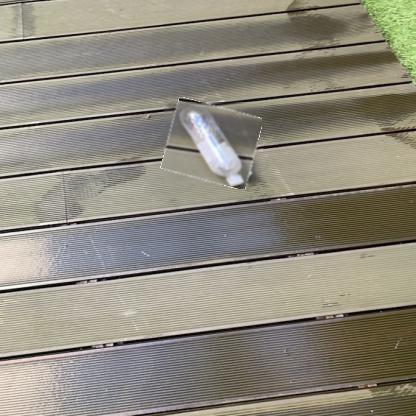plastic-bottles: (165, 103, 260, 187)
